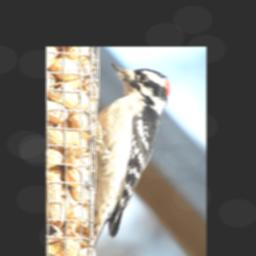Woodpecker: (88, 64, 172, 246)
